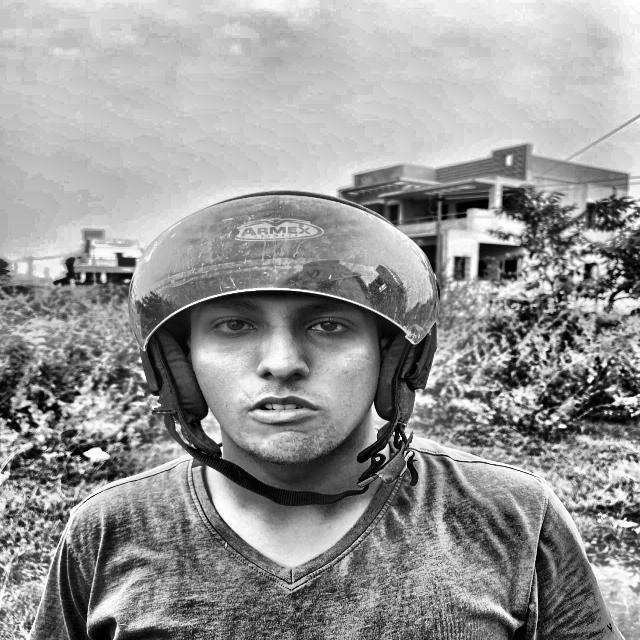Helmet: (111, 172, 453, 522)
